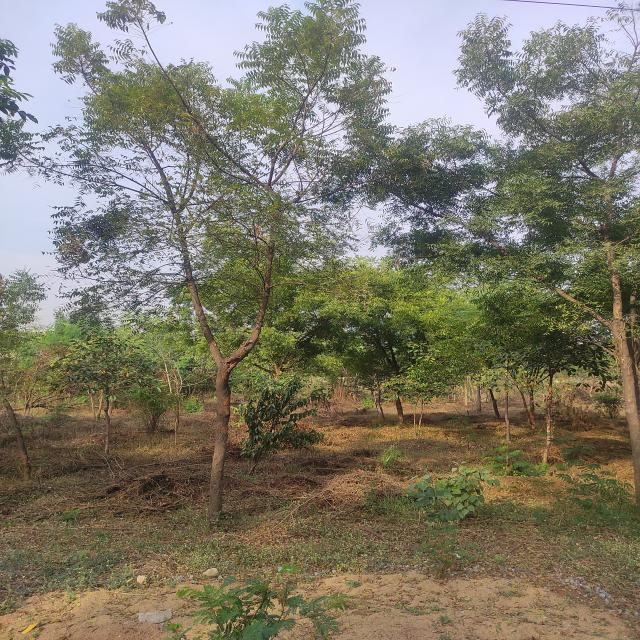Neem Tree: (73, 37, 354, 467), (423, 38, 640, 456)
